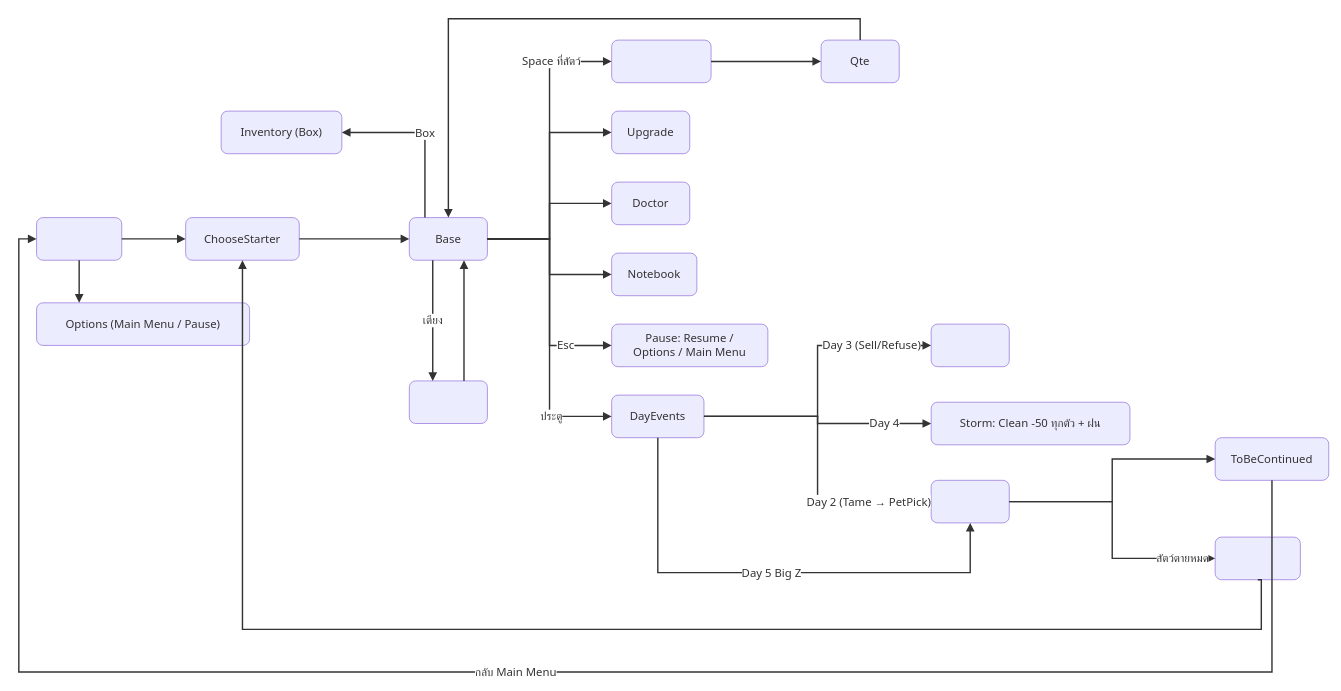
This 1341x691 diagram has some shape labels left out. Each missing label, with the centre of its shape:
CareSelect: point 661,61
Fight: point 969,501
GameOver: point 1257,558
MainMenu: point 79,238
Night: point 448,402
Shop: point 969,345
